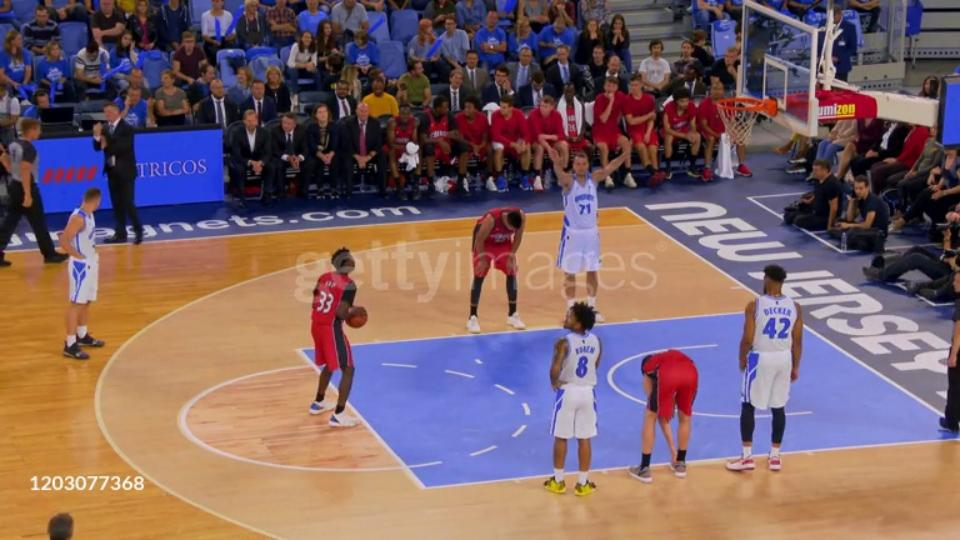hoop: (712, 97, 774, 116)
